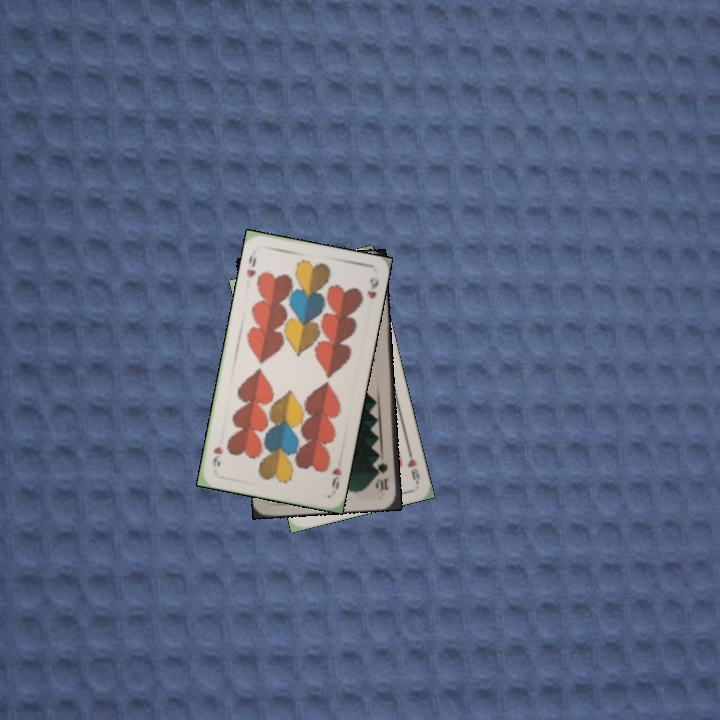G10: (374, 458, 392, 494)
H9: (403, 445, 422, 485), (242, 251, 259, 280), (328, 464, 344, 492)
